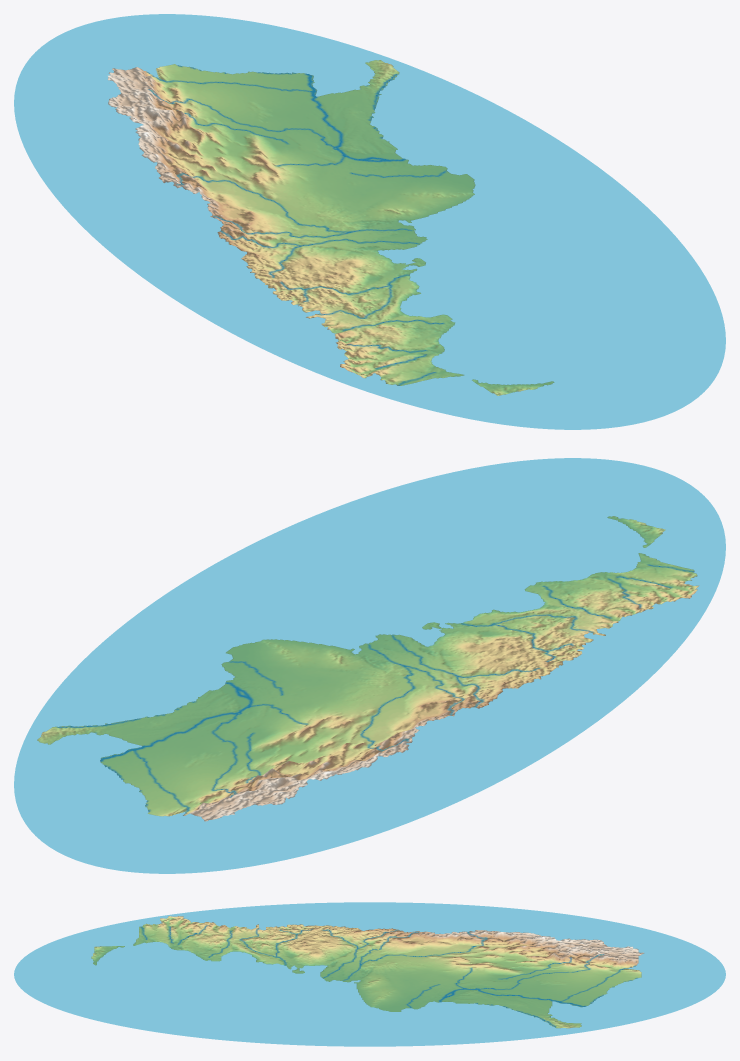
File: ARG-terrain.glb
3 renders of one model, top to bottom at view 1: azimuth 30°, elevation 25°; view 2: azimuth 150°, elevation 25°; view 3: azimuth 270°, elevation 25°, orthographic. The views are drawn at different scales.
Parts seen in each view (by area): view 1: Relevo com hidrografia; view 2: Relevo com hidrografia; view 3: Relevo com hidrografia.
Boxes of the visible parts, x1,y1,x2,y2 form: Relevo com hidrografia: (14, 14, 725, 429); Relevo com hidrografia: (14, 458, 725, 873); Relevo com hidrografia: (14, 902, 725, 1046).
Size of the model in its own units: 0.9933 by 0.0279 by 2.07.
2 materials, 1 textured.
